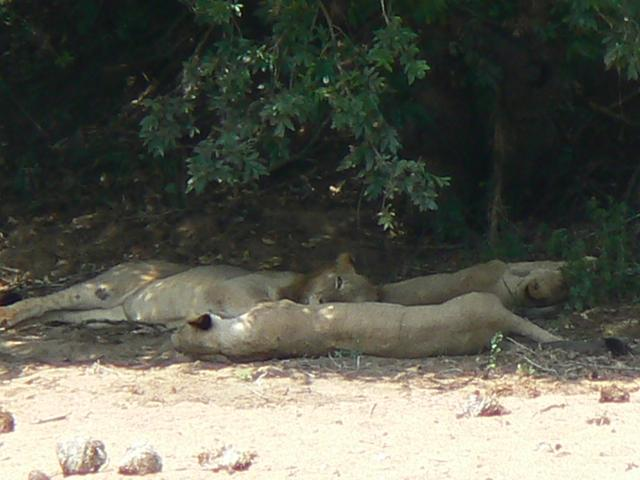lion: (153, 295, 618, 367), (1, 241, 375, 327)
